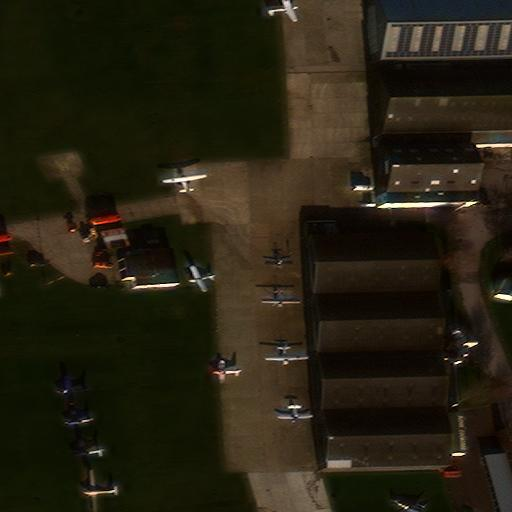Medium Civil Transport: (83, 469, 119, 512)
Military Fighter: (389, 495, 428, 512)
Small Civil Transport: (71, 435, 107, 465), (56, 375, 90, 405), (160, 172, 206, 194), (264, 344, 310, 365), (261, 288, 300, 307), (187, 267, 216, 292), (64, 409, 94, 433), (264, 0, 298, 21), (277, 403, 313, 422), (211, 360, 242, 382), (263, 248, 290, 266)
